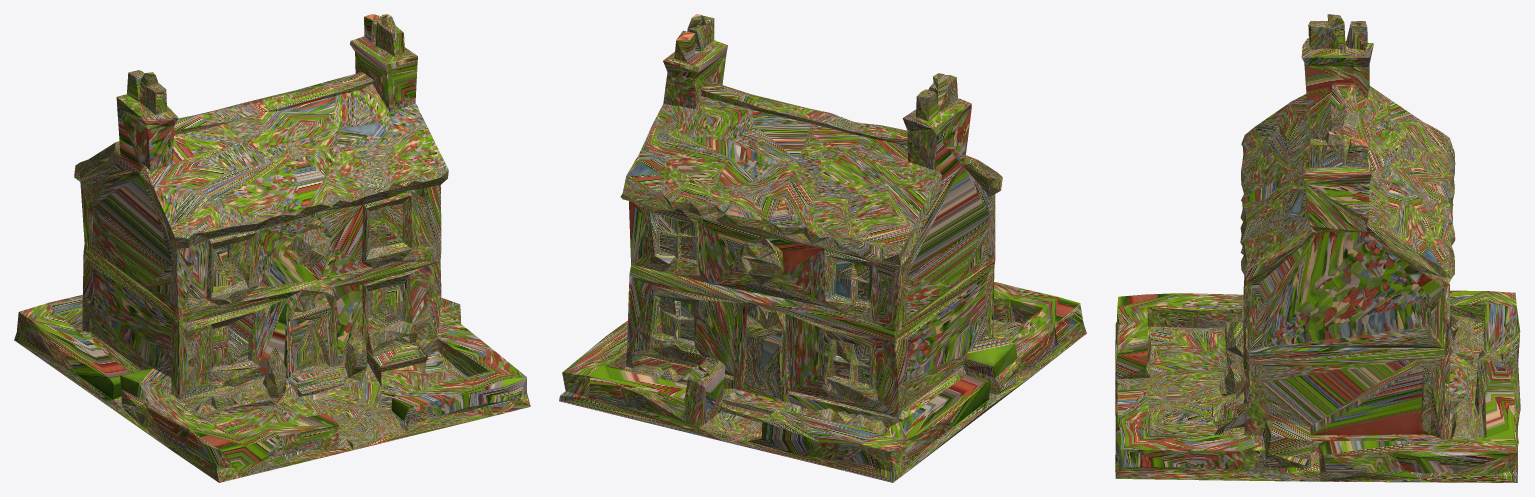
File: town_townhouse_garden_3.glb
The picture shows the model from 3 angles, left to right: view 1: azimuth 30°, elevation 25°; view 2: azimuth 150°, elevation 25°; view 3: azimuth 270°, elevation 25°; orthographic projection. The views are drawn at different scales.
Visible parts, largest first — view 1: normalize; view 2: normalize; view 3: normalize.
Part boxes in pixels (bbox=[...]): normalize: bbox=[14, 14, 530, 482]; normalize: bbox=[559, 14, 1086, 482]; normalize: bbox=[1115, 14, 1520, 482].
Size of the model in its own units: 0.968 by 0.8931 by 1.
1 material, 1 textured.
